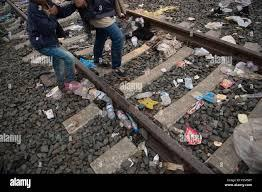mulch: (234, 111, 262, 174), (224, 12, 255, 31), (191, 89, 220, 108), (134, 91, 157, 113), (183, 128, 203, 149), (156, 89, 172, 108), (79, 56, 97, 70)
